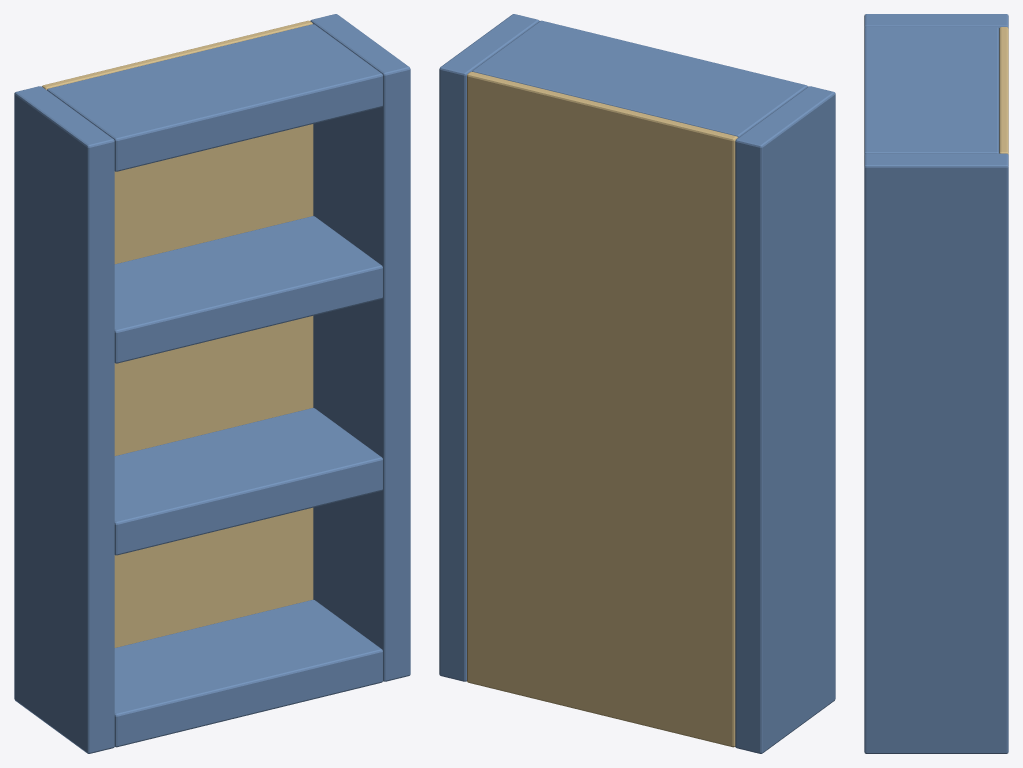
3 renders of one model, left to right at view 1: azimuth 30°, elevation 25°; view 2: azimuth 150°, elevation 25°; view 3: azimuth 270°, elevation 25°, orthographic. The views are drawn at different scales.
Parts seen in each view (by area): view 1: 선반 · Display Shelf; view 2: 선반 · Display Shelf; view 3: 선반 · Display Shelf.
Boxes of the visible parts, x1,y1,x2,y2 form: 선반 · Display Shelf: (14, 14, 410, 753); 선반 · Display Shelf: (439, 14, 835, 753); 선반 · Display Shelf: (864, 14, 1008, 753).
Bounding box in the file's own units: 1 × 1.8 × 0.4.
